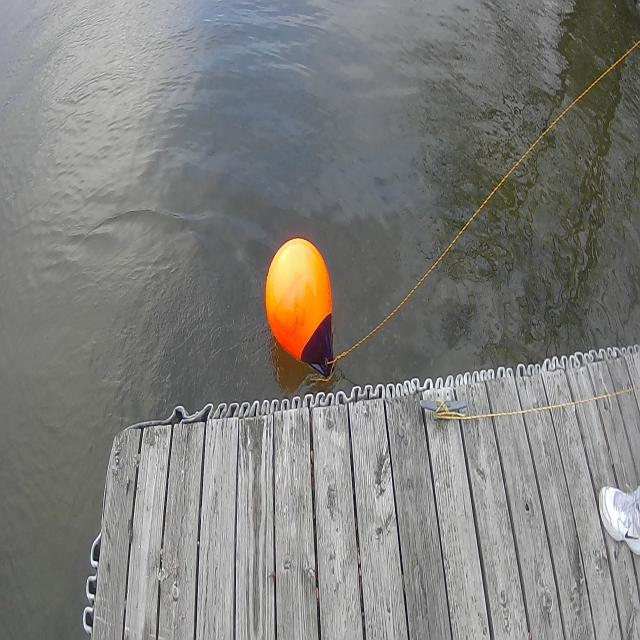Buoy: (264, 233, 338, 375)
